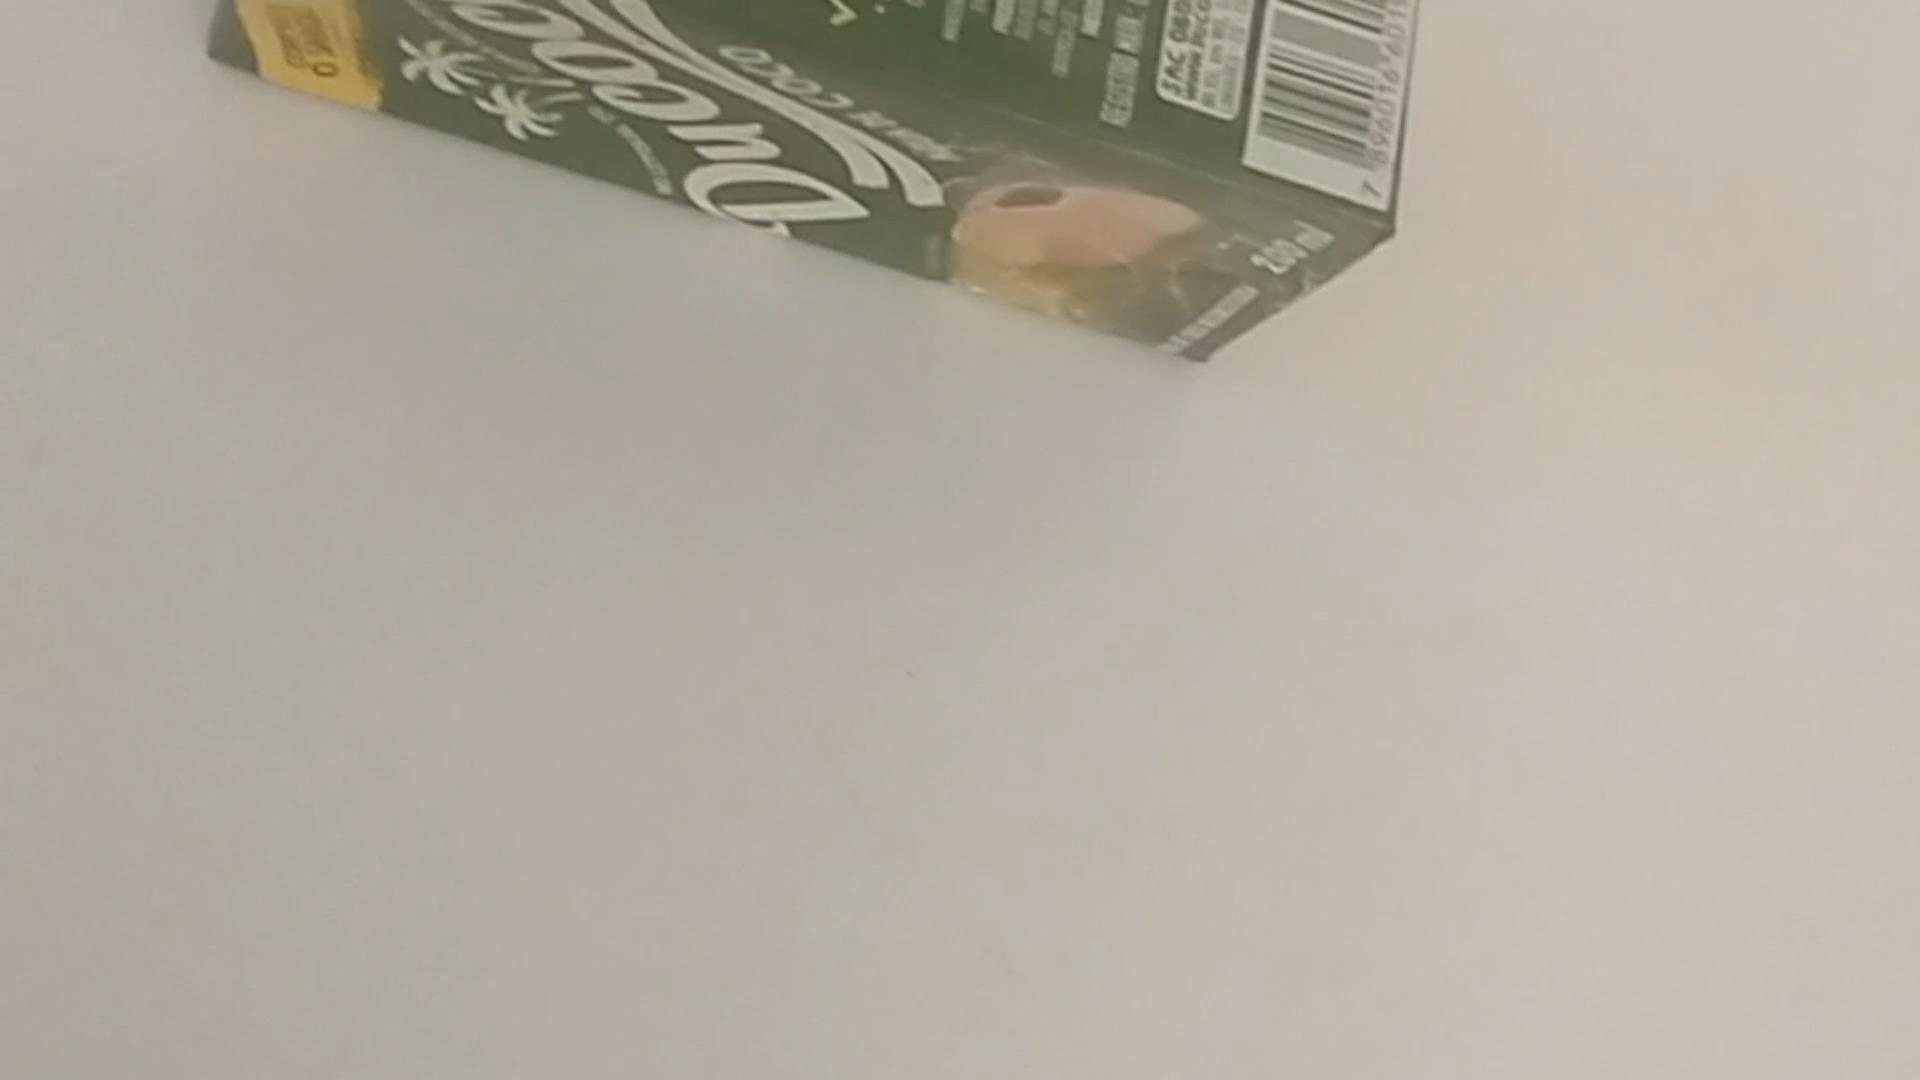coco: (195, 0, 1418, 377)
